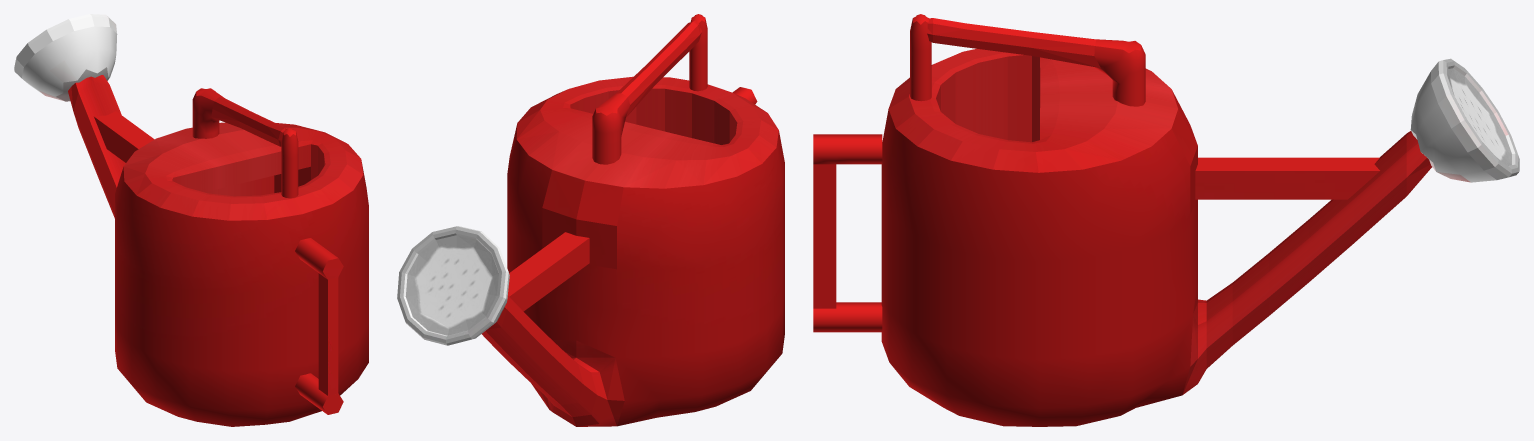
File: 澆水器-2.FBX
3 renders of one model, left to right at view 1: azimuth 30°, elevation 25°; view 2: azimuth 150°, elevation 25°; view 3: azimuth 270°, elevation 25°, orthographic. The views are drawn at different scales.
Visible parts, largest first — view 1: Cylinder003; view 2: Cylinder003; view 3: Cylinder003.
Boxes of the visible parts, bbox=[...] form: Cylinder003: bbox=[14, 14, 368, 426]; Cylinder003: bbox=[397, 14, 784, 426]; Cylinder003: bbox=[813, 14, 1519, 426].
Size of the model in its own units: 49.94 by 65.59 by 111.
Materials: 1 (1 with a texture image).
